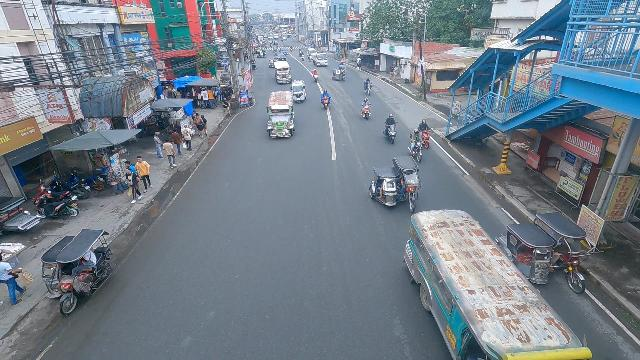car: (273, 51, 288, 62), (306, 48, 318, 61), (279, 47, 289, 57)
jeepney: (402, 206, 601, 360), (265, 91, 294, 141), (274, 60, 292, 85), (256, 35, 264, 44), (267, 36, 273, 44)
motorcycle: (383, 114, 398, 144), (408, 133, 424, 161), (420, 121, 435, 148), (360, 98, 371, 121), (320, 91, 331, 111), (363, 80, 373, 96), (338, 60, 345, 75), (311, 68, 318, 82), (301, 52, 305, 61), (298, 48, 302, 55), (290, 45, 293, 52)
truck: (309, 50, 327, 67)
